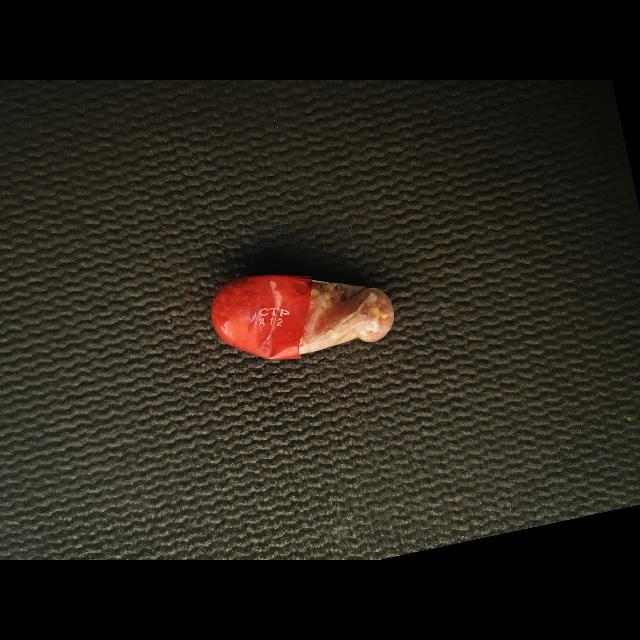Defective Capsule: (212, 275, 394, 360)
